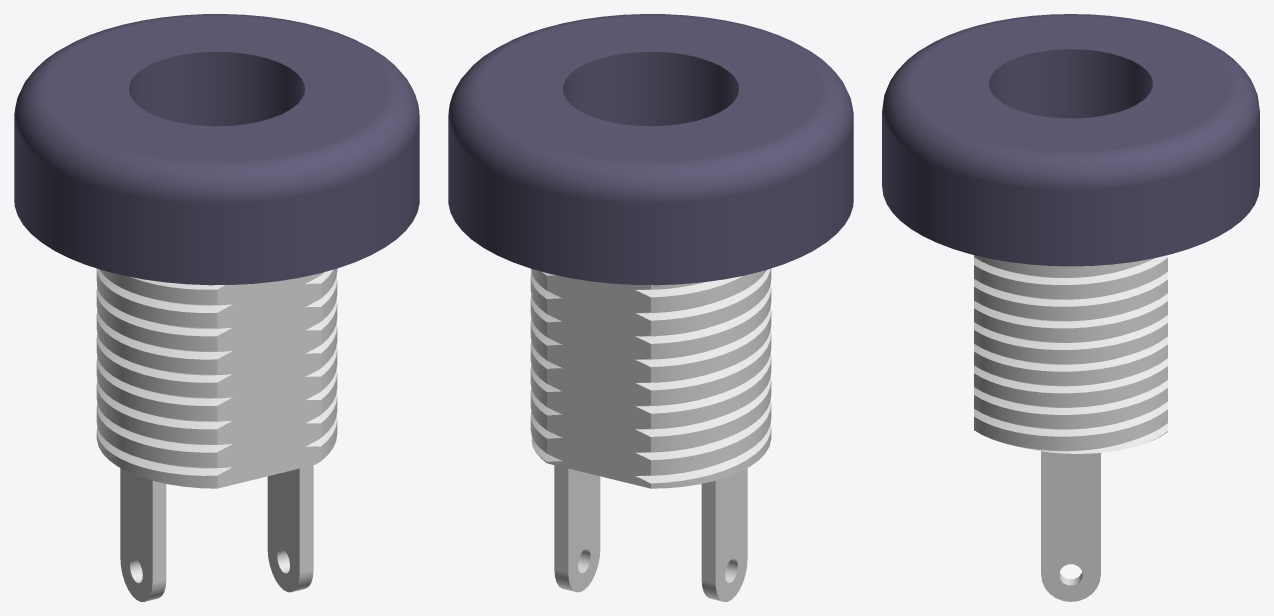
File: Main_Socket_5V.dae
3 views of the same model, side by side, from view 1: azimuth 30°, elevation 25°; view 2: azimuth 150°, elevation 25°; view 3: azimuth 270°, elevation 25° (orthographic). The views are drawn at different scales.
Parts seen in each view (by area): view 1: Main_Socket_5V; view 2: Main_Socket_5V; view 3: Main_Socket_5V.
Part boxes in pixels (x1=…): Main_Socket_5V: x1=14, y1=14, x2=419, y2=601; Main_Socket_5V: x1=448, y1=14, x2=853, y2=601; Main_Socket_5V: x1=882, y1=14, x2=1259, y2=601.
Bounding box in the file's own units: 0.0127 × 0.0127 × 0.0178.
